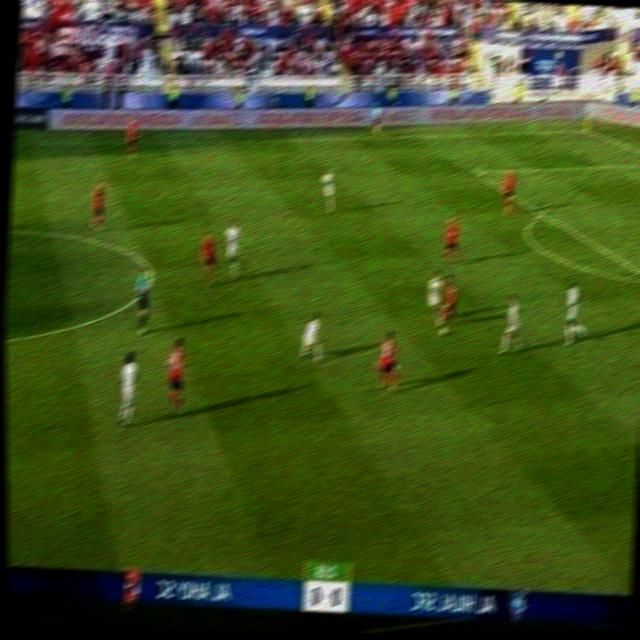bigarea_top_inner: (465, 161, 484, 180)
corner: (578, 122, 596, 137)
top_arc_area_intersection: (534, 201, 553, 224)
